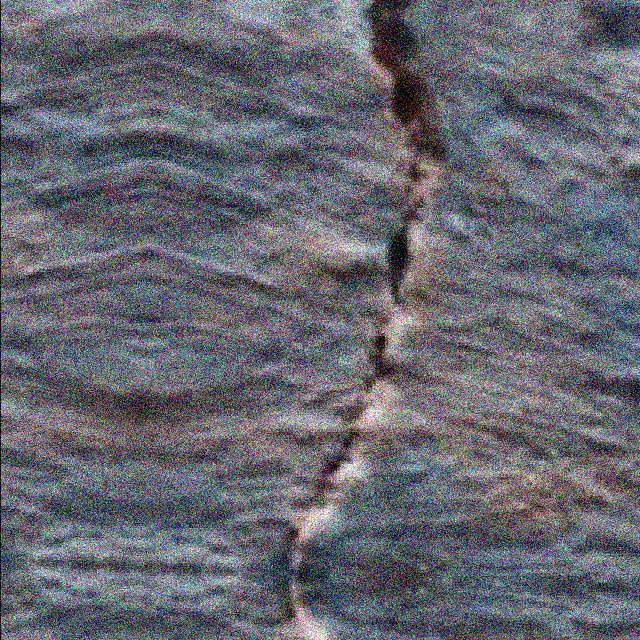SurfaceCrack: (238, 0, 476, 640)
